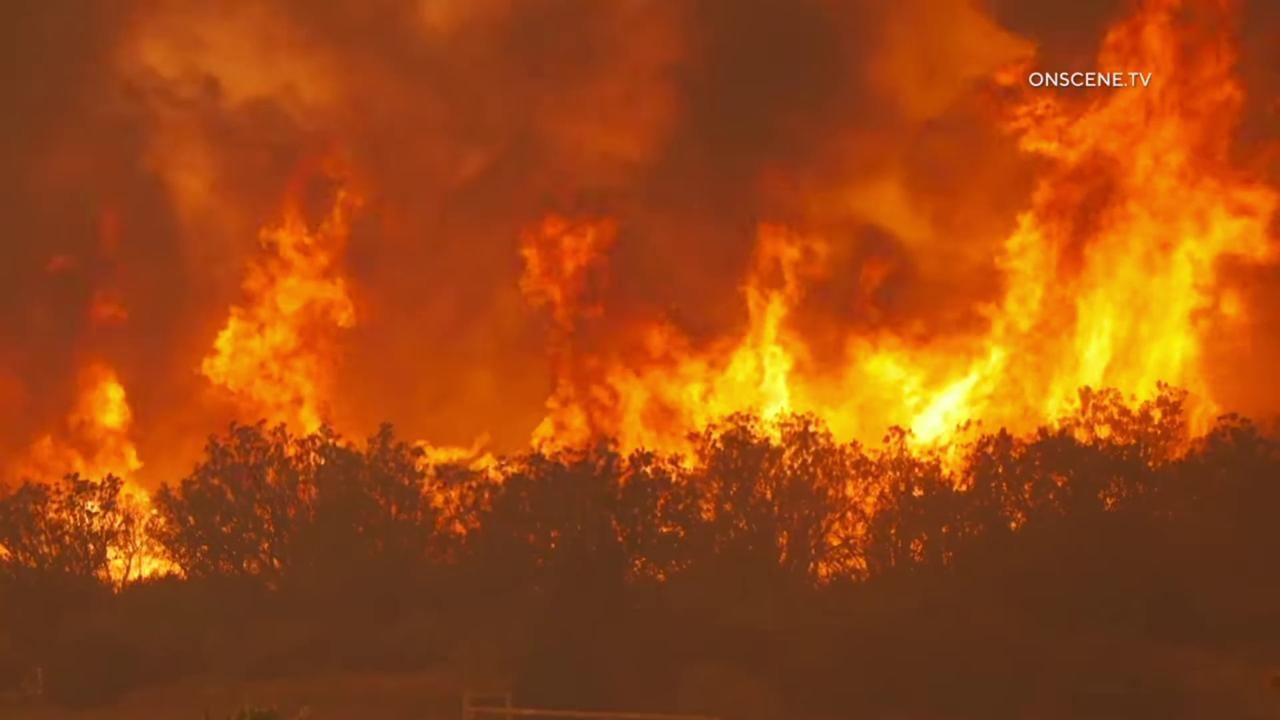fire: (411, 0, 1280, 581), (197, 134, 361, 467), (1, 352, 189, 592)
smoke: (0, 0, 1280, 720)
